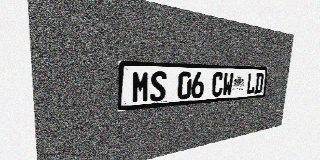0: (177, 72, 192, 100)
6: (191, 72, 205, 99)
C: (211, 72, 224, 97)
D: (254, 73, 264, 94)
L: (246, 73, 256, 94)
M: (131, 71, 150, 103)
S: (150, 71, 167, 102)
W: (222, 72, 234, 96)
